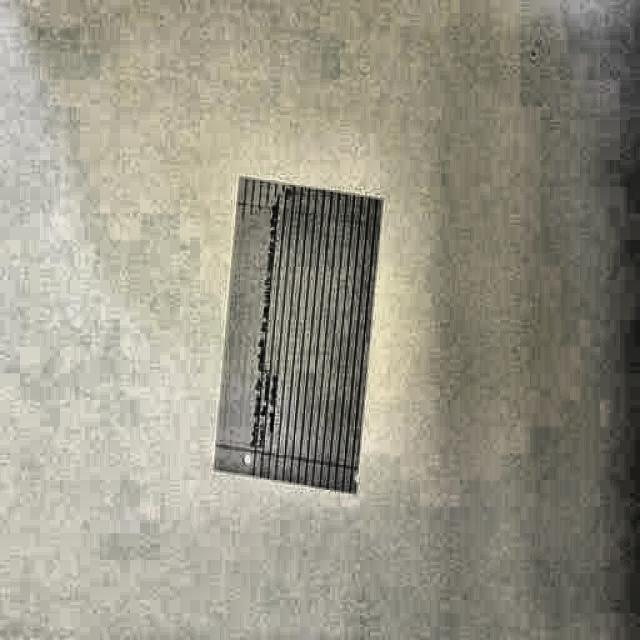paper: (212, 159, 378, 507)
